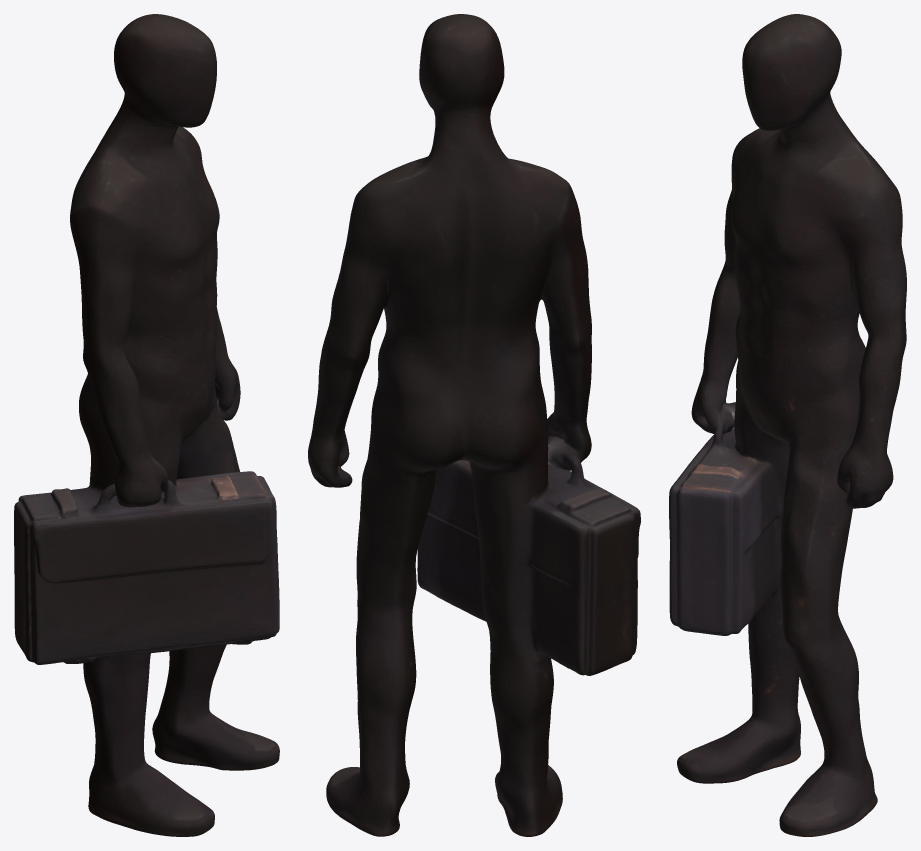
File: businessman-v1.glb
The picture shows the model from 3 angles, left to right: view 1: azimuth 30°, elevation 25°; view 2: azimuth 150°, elevation 25°; view 3: azimuth 270°, elevation 25°; orthographic projection. The views are drawn at different scales.
Visible parts, largest first — view 1: geometry_0; view 2: geometry_0; view 3: geometry_0.
Boxes of the visible parts, x1=… form: geometry_0: x1=14, y1=14, x2=279, y2=836; geometry_0: x1=308, y1=14, x2=640, y2=836; geometry_0: x1=669, y1=14, x2=906, y2=836.
Bounding box in the file's own units: 0.7347 × 2 × 0.5625.
1 material, 1 textured.
